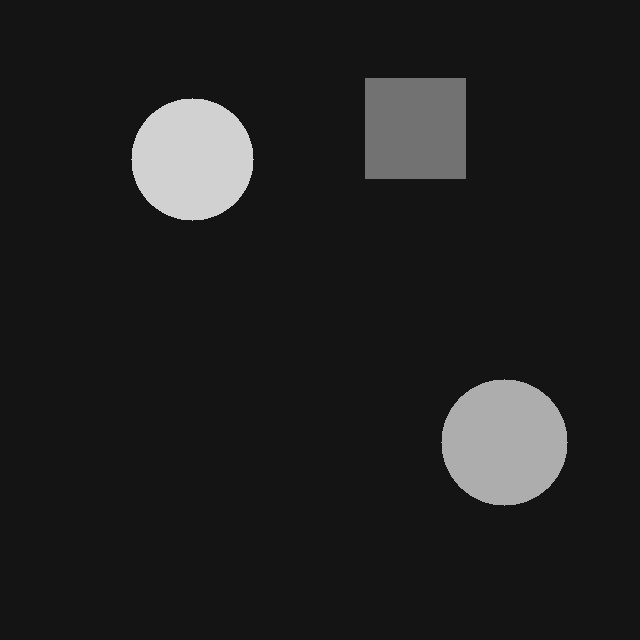circle: (441, 379, 567, 505), (131, 98, 253, 220)
square: (365, 78, 465, 178)
